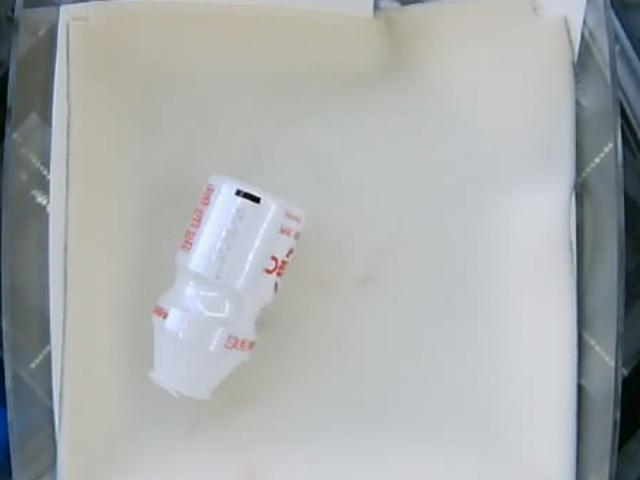Bottle: (148, 171, 306, 402)
